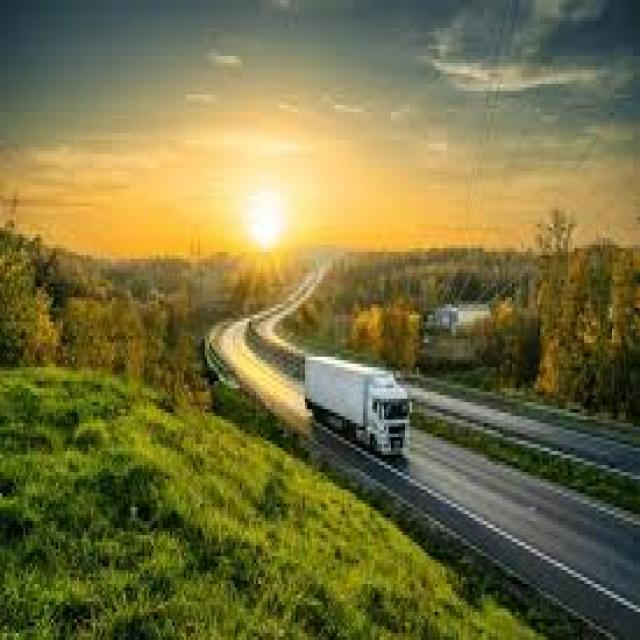truck: (304, 352, 413, 457)
